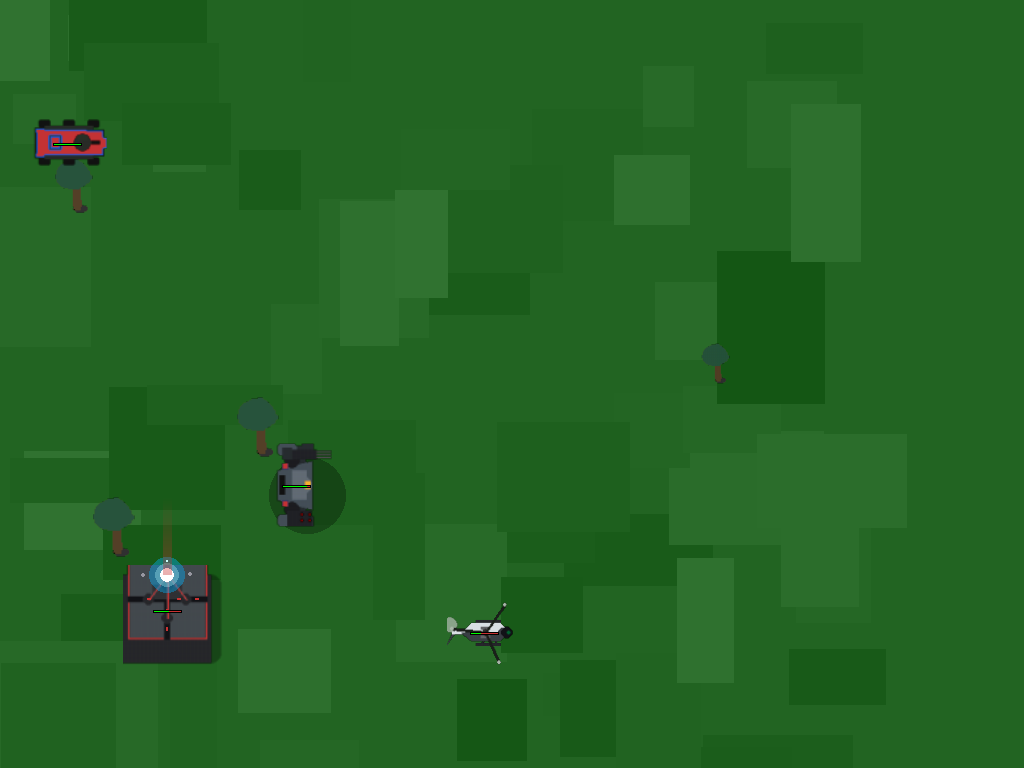APC_usa: (37, 112, 97, 172)
HeavyMech: (266, 454, 324, 512)
Helicopter: (464, 610, 505, 651)
ResearchCenter: (117, 559, 216, 658)
